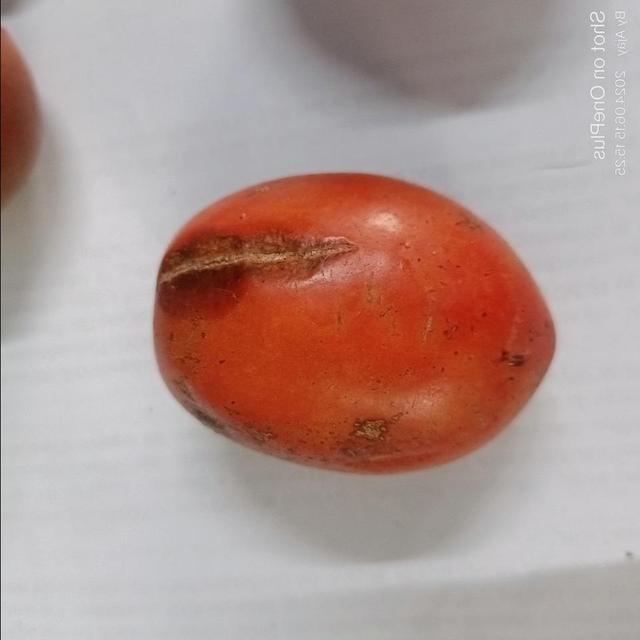Cracking Fruit: (95, 103, 342, 261)
